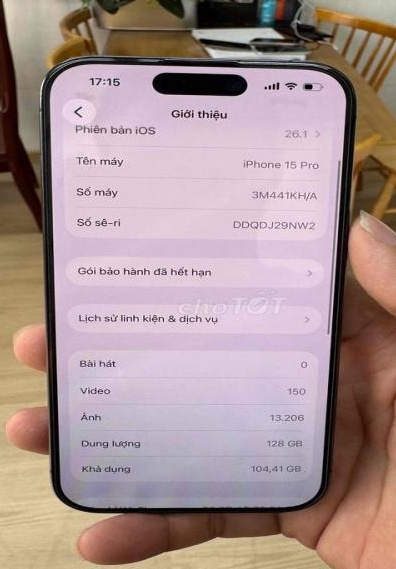scratch: (233, 58, 340, 71)
